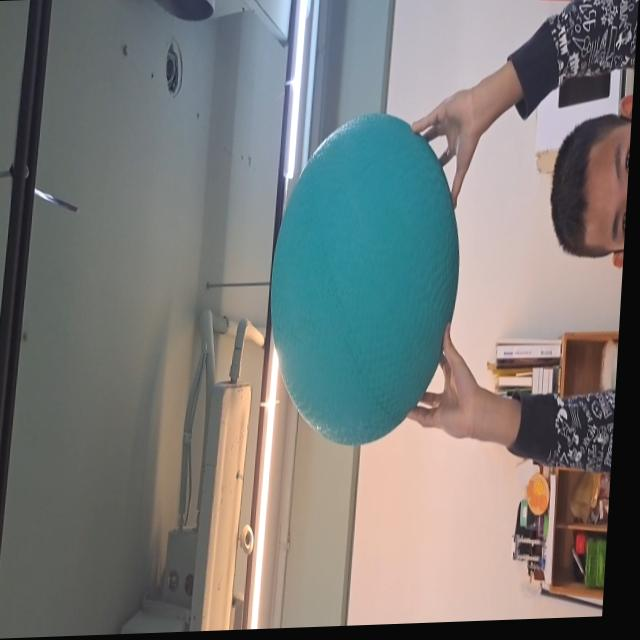ALGAE: (260, 110, 467, 447)
